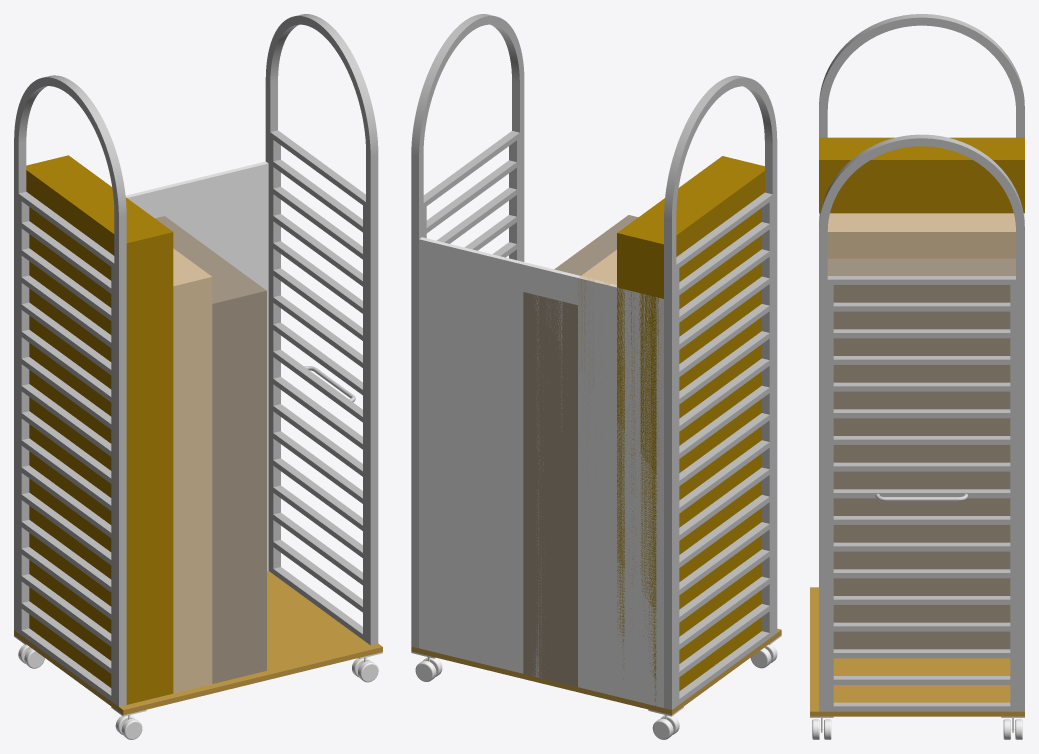
The model's file is chariot HG.glb.
3 views of the same model, side by side, from view 1: azimuth 30°, elevation 25°; view 2: azimuth 150°, elevation 25°; view 3: azimuth 270°, elevation 25° (orthographic). The views are drawn at different scales.
Parts seen in each view (by area): view 1: Part 3 (×2), Part 5 (×6), Part 6 (×7), Part 2 (×2), Part 4 (×5), Part 7, Part 1; view 2: Part 7, Part 5 (×6), Part 3 (×2), Part 6 (×7), Part 2 (×2), Part 1, Part 4; view 3: Part 6 (×7), Part 3, Part 2 (×2), Part 5 (×6), Part 4 (×7), Part 1.
Boxes of the visible parts, x1=… form: Part 3 (×2): x1=18, y1=130, x2=365, y2=702; Part 5 (×6): x1=26, y1=155, x2=173, y2=704; Part 6 (×7): x1=155, y1=216, x2=266, y2=683; Part 2 (×2): x1=14, y1=14, x2=378, y2=706; Part 4 (×5): x1=173, y1=248, x2=212, y2=693; Part 7: x1=125, y1=161, x2=268, y2=570; Part 1: x1=14, y1=571, x2=382, y2=715; Part 7: x1=419, y1=237, x2=663, y2=707; Part 5 (×6): x1=617, y1=156, x2=764, y2=705; Part 3 (×2): x1=423, y1=131, x2=772, y2=706; Part 6 (×7): x1=523, y1=215, x2=638, y2=686; Part 2 (×2): x1=411, y1=14, x2=777, y2=709; Part 1: x1=411, y1=628, x2=781, y2=714; Part 4: x1=578, y1=250, x2=616, y2=436; Part 6 (×7): x1=827, y1=258, x2=1015, y2=649; Part 3: x1=827, y1=276, x2=1015, y2=711; Part 2 (×2): x1=819, y1=14, x2=1024, y2=711; Part 5 (×6): x1=819, y1=137, x2=1024, y2=213; Part 4 (×7): x1=810, y1=213, x2=1024, y2=739; Part 1: x1=810, y1=587, x2=1024, y2=716.
Bounding box in the file's own units: 1.04 × 2.27 × 0.73.
